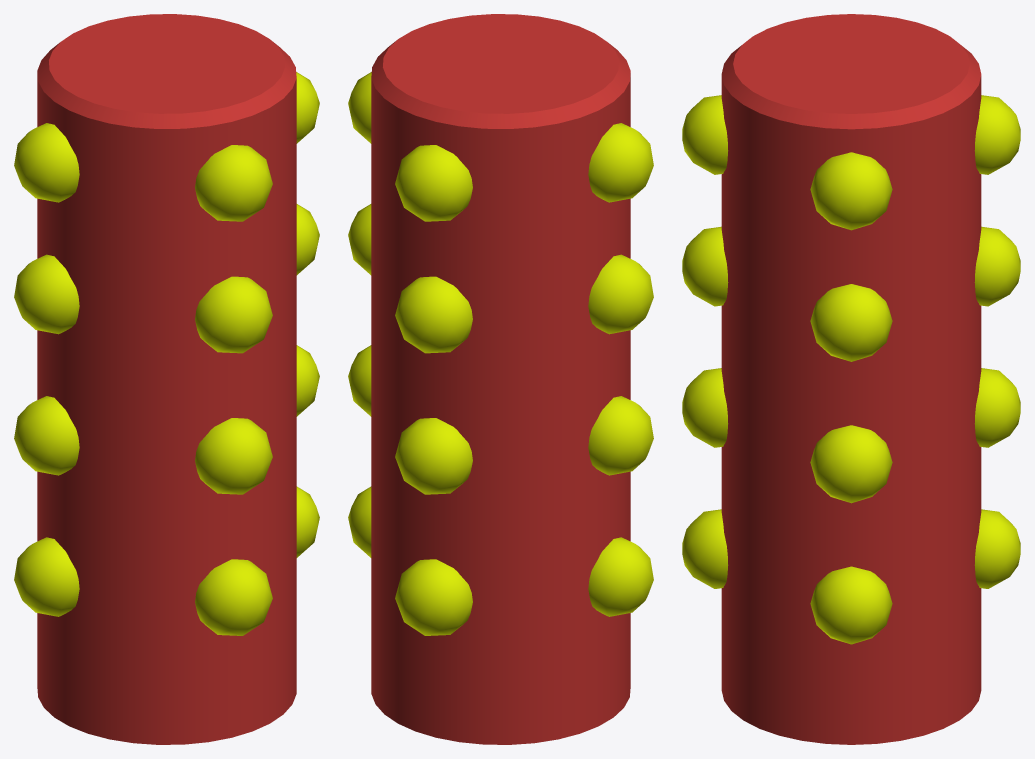
Rendered from obstacle01.fbx.
3 views of the same model, side by side, from view 1: azimuth 30°, elevation 25°; view 2: azimuth 150°, elevation 25°; view 3: azimuth 270°, elevation 25° (orthographic).
Parts seen in each view (by area): view 1: obstacle01.001; view 2: obstacle01.001; view 3: obstacle01.001.
Part boxes in pixels (<box>): obstacle01.001: <box>14,14,319,744</box>; obstacle01.001: <box>348,14,653,744</box>; obstacle01.001: <box>682,14,1020,744</box>.
Size of the model in its own units: 0.6832 by 1.39 by 0.6832.
